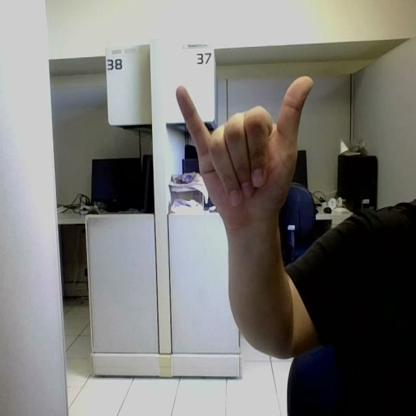Y: (176, 76, 312, 211)
